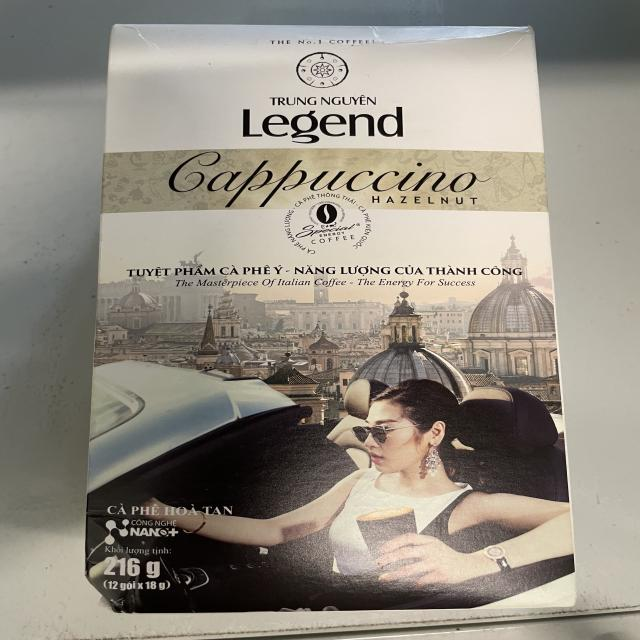object_name: (101, 25, 559, 611)
